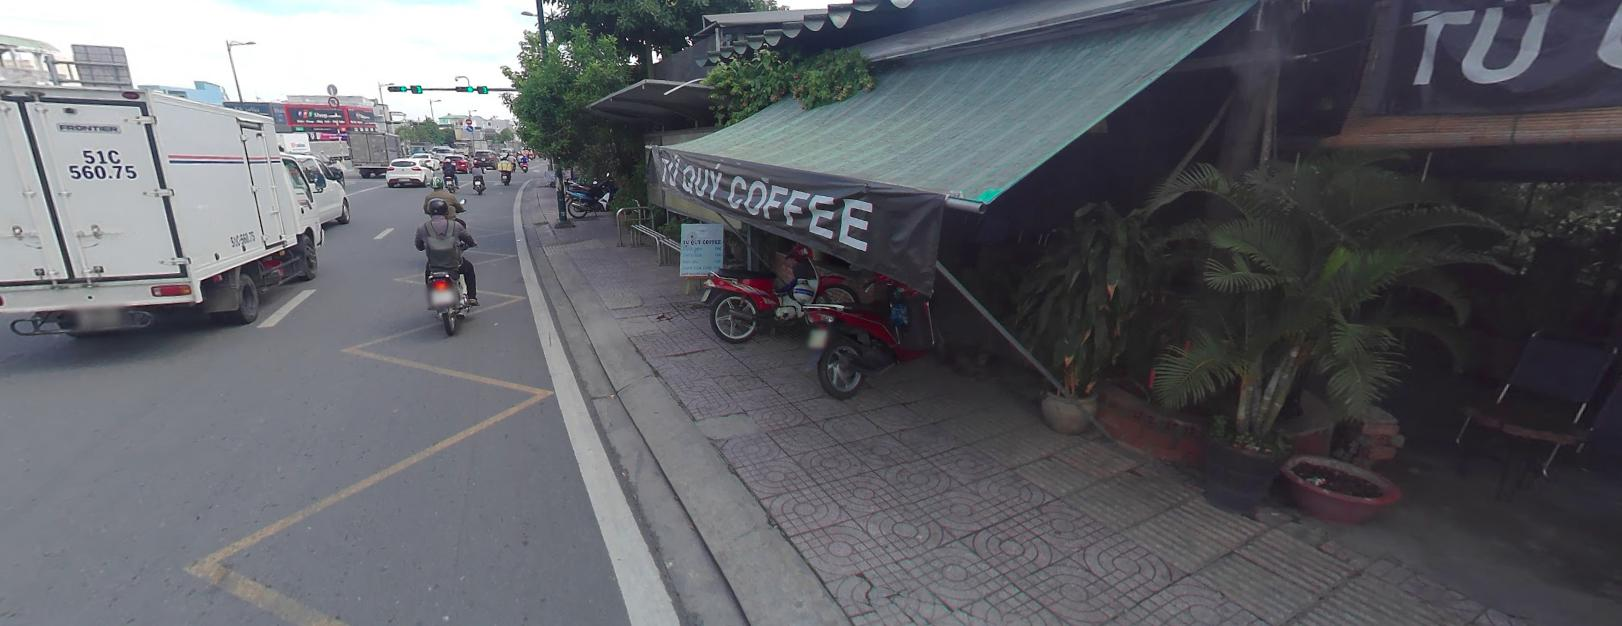Cam nguoc chieu: (465, 117, 471, 123), (465, 117, 471, 122)
Cam re: (328, 96, 339, 106)
Hieu lenh: (465, 124, 472, 131), (467, 124, 473, 130)
